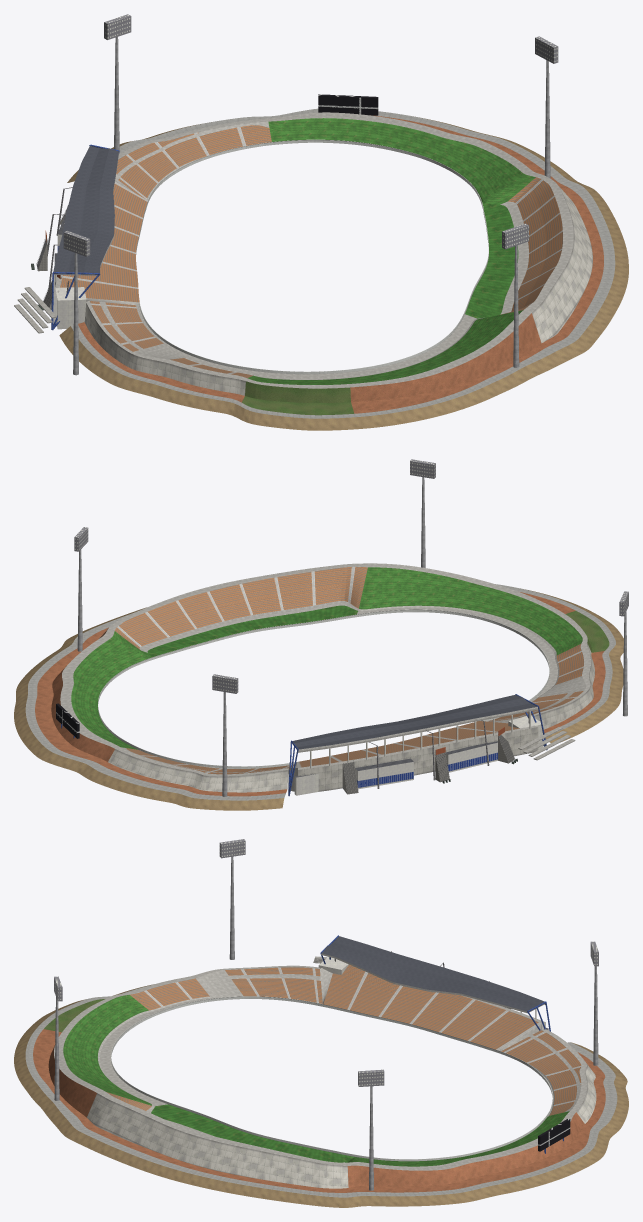
Rendered from bruce3.glb.
3 views of the same model, one above another, from view 1: azimuth 30°, elevation 25°; view 2: azimuth 150°, elevation 25°; view 3: azimuth 270°, elevation 25° (orthographic). The views are drawn at different scales.
Visible parts, largest first — view 1: bowl_conc_out_skirt_41, bowl_path_out_conc_out_40, bowl_top_in_top_out_30, bowl_foot_path_out_37, w_seats, bowl_top_out_foot_34, bowl_toe_walk_a_9, bowl_top_out_foot_33, bowl_toe_walk_a_10, bowl_walk_b_top_in_24, bowl_fence_bf_toe_a_4, bowl_top_out_foot_36 (+24 smaller); view 2: bowl_conc_out_skirt_41, bowl_top_in_top_out_30, bowl_walk_b_top_in_25, bowl_path_out_conc_out_40, bowl_toe_walk_a_11, bowl_walk_b_top_in_26, bowl_foot_path_out_37, bowl_toe_walk_a_12, bowl_top_out_foot_31, w_rear_wall, bowl_fence_bf_toe_a_4, w_seats (+20 smaller); view 3: bowl_conc_out_skirt_41, w_seats, bowl_top_out_foot_33, bowl_foot_path_out_37, bowl_path_out_conc_out_40, bowl_top_in_top_out_30, bowl_top_out_foot_32, bowl_fence_bf_toe_a_4, bowl_toe_walk_a_9, roof_2, roof_0, bowl_walk_b_top_in_26 (+19 smaller).
Part boxes in pixels (x1=…): bowl_conc_out_skirt_41: x1=59, y1=116, x2=628, y2=430; bowl_path_out_conc_out_40: x1=71, y1=108, x2=615, y2=418; bowl_top_in_top_out_30: x1=86, y1=112, x2=573, y2=388; bowl_foot_path_out_37: x1=351, y1=115, x2=603, y2=413; w_seats: x1=60, y1=182, x2=147, y2=302; bowl_top_out_foot_34: x1=350, y1=313, x2=541, y2=401; bowl_toe_walk_a_9: x1=118, y1=125, x2=271, y2=199; bowl_top_out_foot_33: x1=532, y1=184, x2=592, y2=343; bowl_toe_walk_a_10: x1=269, y1=128, x2=522, y2=201; bowl_walk_b_top_in_24: x1=268, y1=118, x2=535, y2=187; bowl_fence_bf_toe_a_4: x1=465, y1=201, x2=518, y2=318; bowl_top_out_foot_36: x1=84, y1=303, x2=245, y2=395; bowl_conc_out_skirt_41: x1=14, y1=589, x2=623, y2=810; bowl_top_in_top_out_30: x1=60, y1=563, x2=590, y2=776; bowl_walk_b_top_in_25: x1=115, y1=567, x2=367, y2=638; bowl_path_out_conc_out_40: x1=25, y1=584, x2=615, y2=800; bowl_toe_walk_a_11: x1=126, y1=585, x2=362, y2=649; bowl_walk_b_top_in_26: x1=363, y1=567, x2=582, y2=649; bowl_foot_path_out_37: x1=35, y1=592, x2=575, y2=796; bowl_toe_walk_a_12: x1=359, y1=589, x2=568, y2=655; bowl_top_out_foot_31: x1=108, y1=749, x2=288, y2=792; w_rear_wall: x1=298, y1=727, x2=538, y2=791; bowl_fence_bf_toe_a_4: x1=97, y1=605, x2=357, y2=749; w_seats: x1=296, y1=721, x2=519, y2=767; bowl_conc_out_skirt_41: x1=14, y1=984, x2=628, y2=1207; w_seats: x1=323, y1=964, x2=541, y2=1050; bowl_top_out_foot_33: x1=87, y1=1093, x2=348, y2=1188; bowl_foot_path_out_37: x1=33, y1=1029, x2=605, y2=1192; bowl_path_out_conc_out_40: x1=25, y1=985, x2=617, y2=1197; bowl_top_in_top_out_30: x1=54, y1=965, x2=587, y2=1170; bowl_top_out_foot_32: x1=347, y1=1112, x2=584, y2=1187; bowl_fence_bf_toe_a_4: x1=151, y1=1104, x2=547, y2=1162; bowl_toe_walk_a_9: x1=501, y1=1037, x2=576, y2=1115; roof_2: x1=333, y1=936, x2=544, y2=1004; roof_0: x1=322, y1=947, x2=533, y2=1011; bowl_walk_b_top_in_26: x1=63, y1=995, x2=138, y2=1098.
Size of the model in its own units: 247 by 57.91 by 261.
27 materials, 27 textured.
